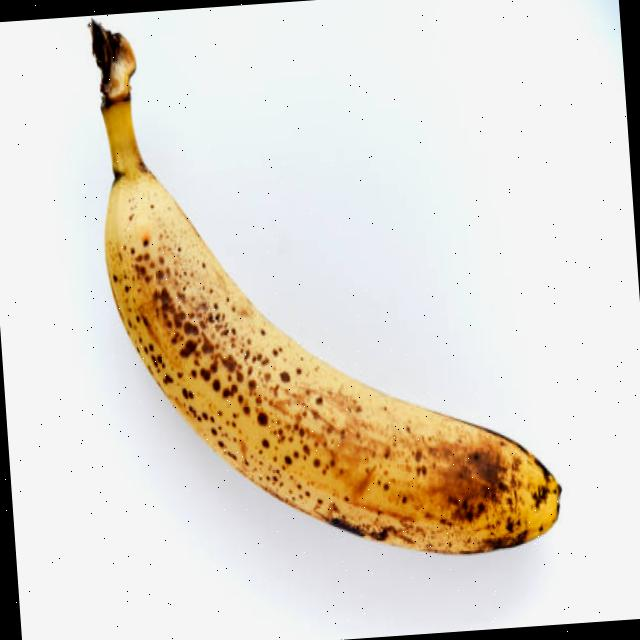overripe: (92, 65, 569, 582)
